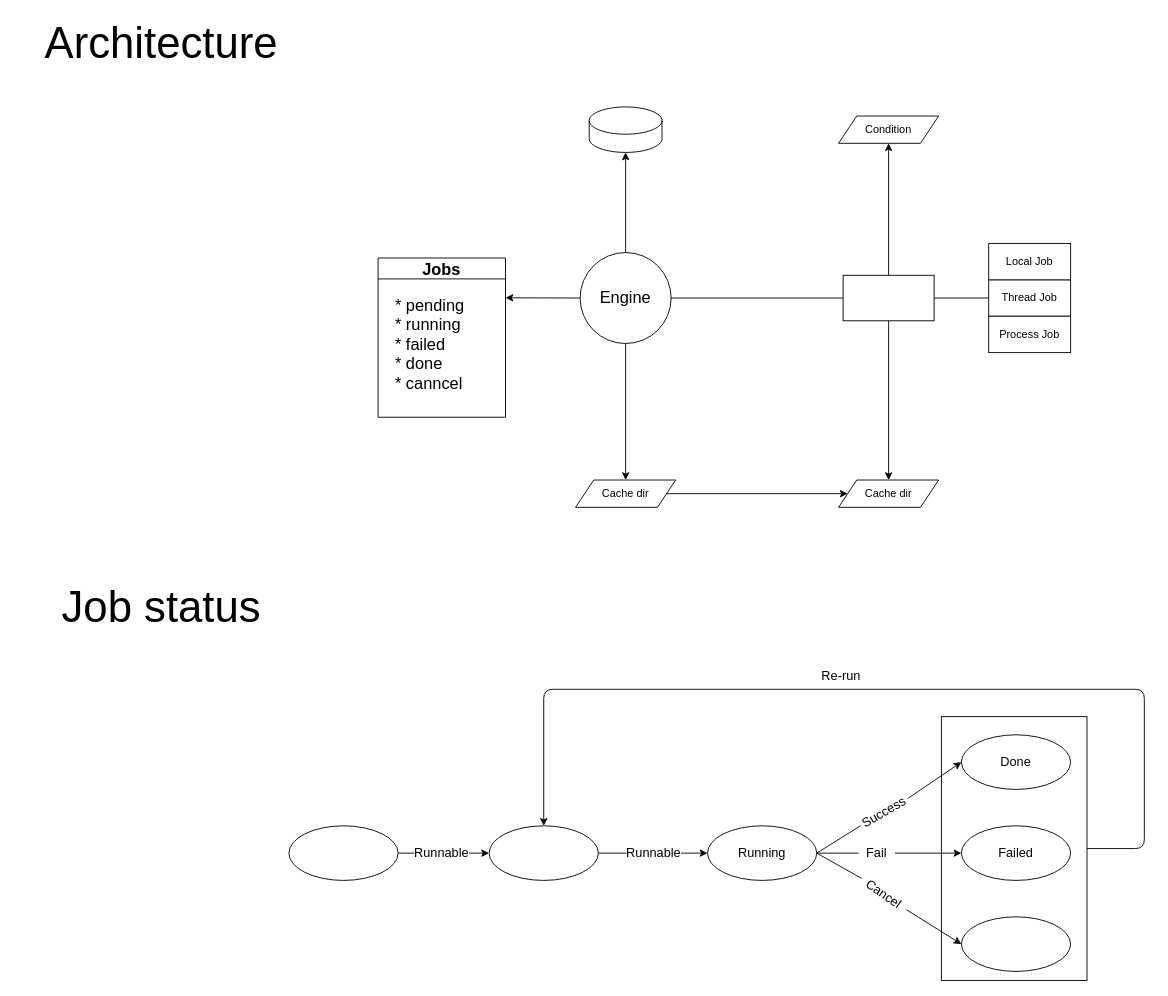
This 1168x996 diagram has some shape labels left out. The shapes that lost their labels are listed below. From the top down, each one's centre as x and y in pixels, then its label:
[625,129]: Setting
[888,297]: Job
[343,852]: Created
[543,852]: Pending
[1016,943]: cancelled
